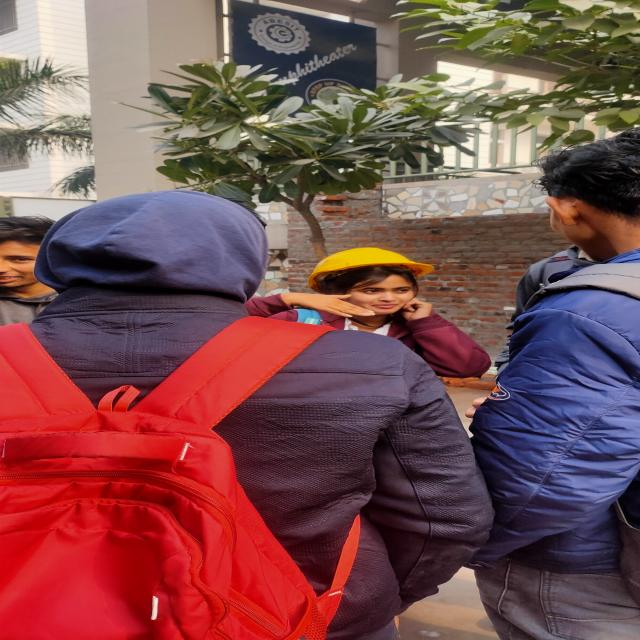unsafe: (0, 190, 321, 640), (488, 136, 637, 636)
